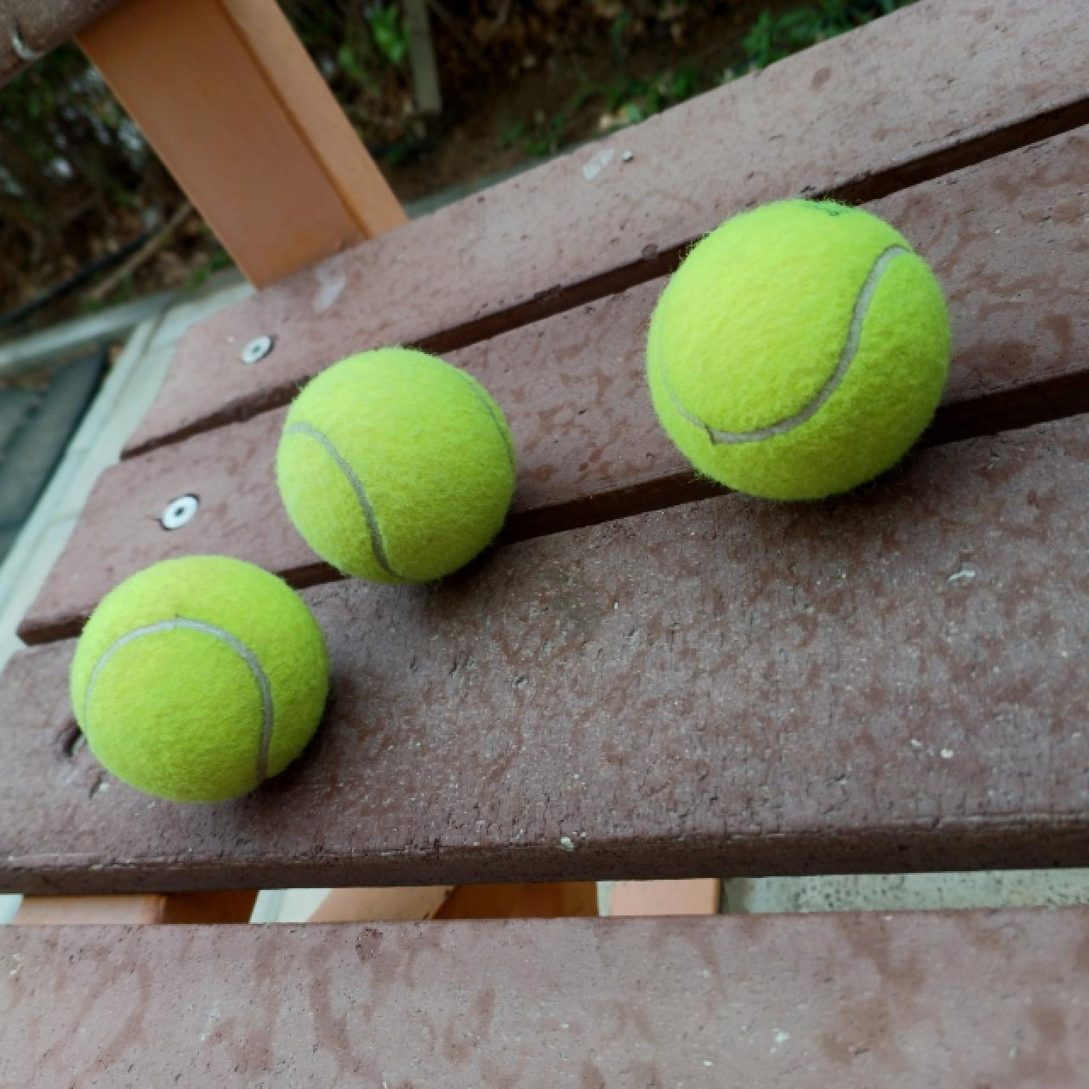tennis-ball: (647, 195, 953, 503), (66, 552, 331, 807), (277, 342, 520, 588)
